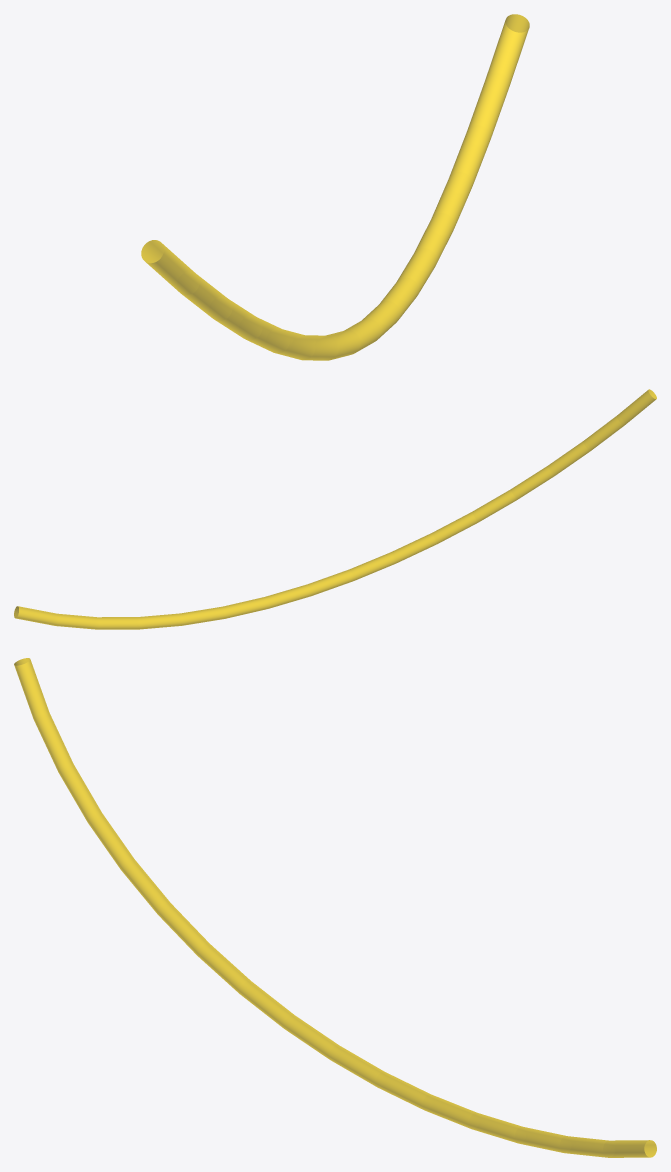
The model's file is Event_75125125_track_63.fbx.
The picture shows the model from 3 angles, top to bottom: view 1: azimuth 30°, elevation 25°; view 2: azimuth 150°, elevation 25°; view 3: azimuth 270°, elevation 25°; orthographic projection. The views are drawn at different scales.
Parts seen in each view (by area): view 1: Model; view 2: Model; view 3: Model.
Part boxes in pixels (x1,y1,x2,y2): Model: [141, 14, 529, 360]; Model: [14, 389, 656, 629]; Model: [14, 658, 656, 1157].
Size of the model in its own units: 1.53 by 0.6695 by 1.48.
